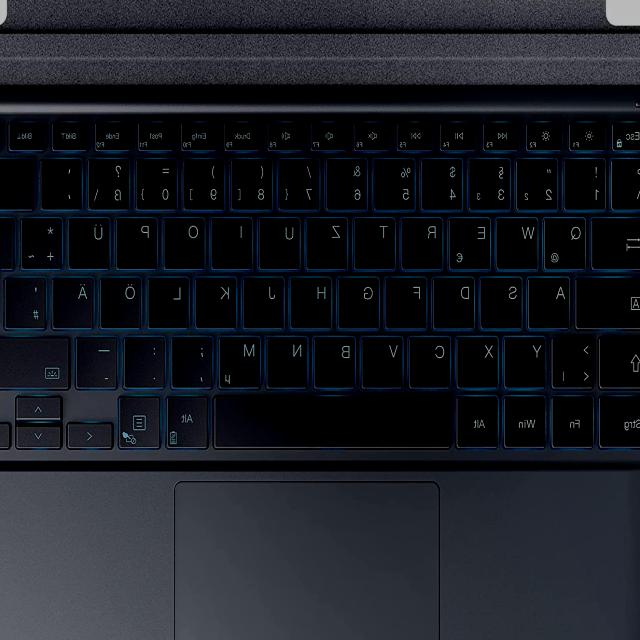0: (137, 154, 181, 210)
1: (565, 155, 608, 209)
2: (517, 154, 561, 209)
3: (470, 154, 514, 210)
4: (422, 154, 466, 209)
5: (375, 154, 419, 209)
6: (327, 154, 371, 209)
7: (279, 155, 323, 210)
8: (232, 154, 276, 209)
9: (184, 154, 228, 209)
a: (529, 274, 573, 328)
accent: (42, 154, 84, 208)
ae: (53, 273, 97, 329)
alt-left: (458, 393, 502, 447)
altgr-right: (167, 393, 211, 448)
b: (314, 332, 359, 388)
c: (409, 333, 454, 388)
caret: (613, 155, 640, 209)
comma: (172, 332, 216, 387)
d: (434, 273, 478, 329)
del: (0, 154, 36, 210)
e: (450, 213, 494, 269)
enter: (0, 213, 17, 326)
f: (387, 273, 431, 328)
g: (339, 273, 383, 328)
h: (292, 274, 336, 328)
hash: (7, 274, 50, 328)
i: (212, 214, 256, 268)
j: (244, 273, 287, 327)
k: (197, 274, 240, 328)
keyboard: (0, 84, 640, 470)
l: (149, 273, 192, 328)
less: (553, 332, 597, 388)
m: (220, 332, 264, 388)
minus: (78, 333, 122, 388)
n: (268, 333, 312, 388)
o: (165, 213, 209, 269)
oe: (101, 274, 145, 329)
p: (117, 214, 161, 268)
plus: (22, 213, 65, 268)
point: (124, 333, 168, 387)
q: (544, 214, 590, 270)
r: (402, 214, 446, 269)
s: (482, 273, 526, 328)
shift-left: (600, 332, 640, 388)
shift-lock: (577, 273, 640, 327)
shift-right: (0, 332, 73, 388)
space: (214, 392, 454, 448)
ss: (89, 154, 133, 209)
strg-left: (600, 392, 640, 448)
t: (356, 214, 398, 268)
tab: (593, 212, 640, 267)
u: (261, 213, 305, 269)
ue: (69, 213, 113, 269)
v: (362, 333, 406, 388)
w: (498, 214, 542, 269)
x: (458, 333, 502, 388)
y: (505, 333, 549, 387)
z: (308, 214, 352, 269)
